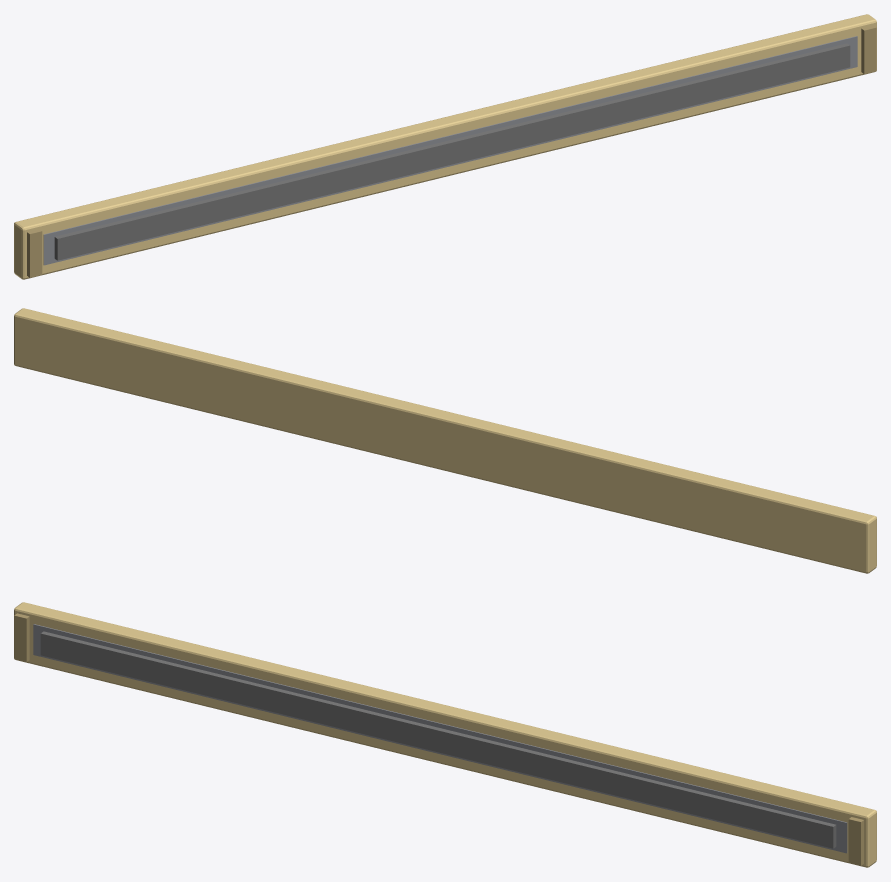
File: prop_vault_repeater.glb
3 renders of one model, top to bottom at view 1: azimuth 30°, elevation 25°; view 2: azimuth 150°, elevation 25°; view 3: azimuth 330°, elevation 25°, orthographic.
Visible parts, largest first — view 1: Housing, LedStrip; view 2: Housing; view 3: Housing, LedStrip.
Part boxes in pixels (left/top/right/bottom): Housing: left=14, top=14, right=876, bottom=279; LedStrip: left=54, top=43, right=850, bottom=260; Housing: left=14, top=308, right=876, bottom=573; Housing: left=14, top=602, right=876, bottom=867; LedStrip: left=40, top=631, right=836, bottom=848.
Size of the model in its own units: 4.1 by 0.24 by 0.11.
